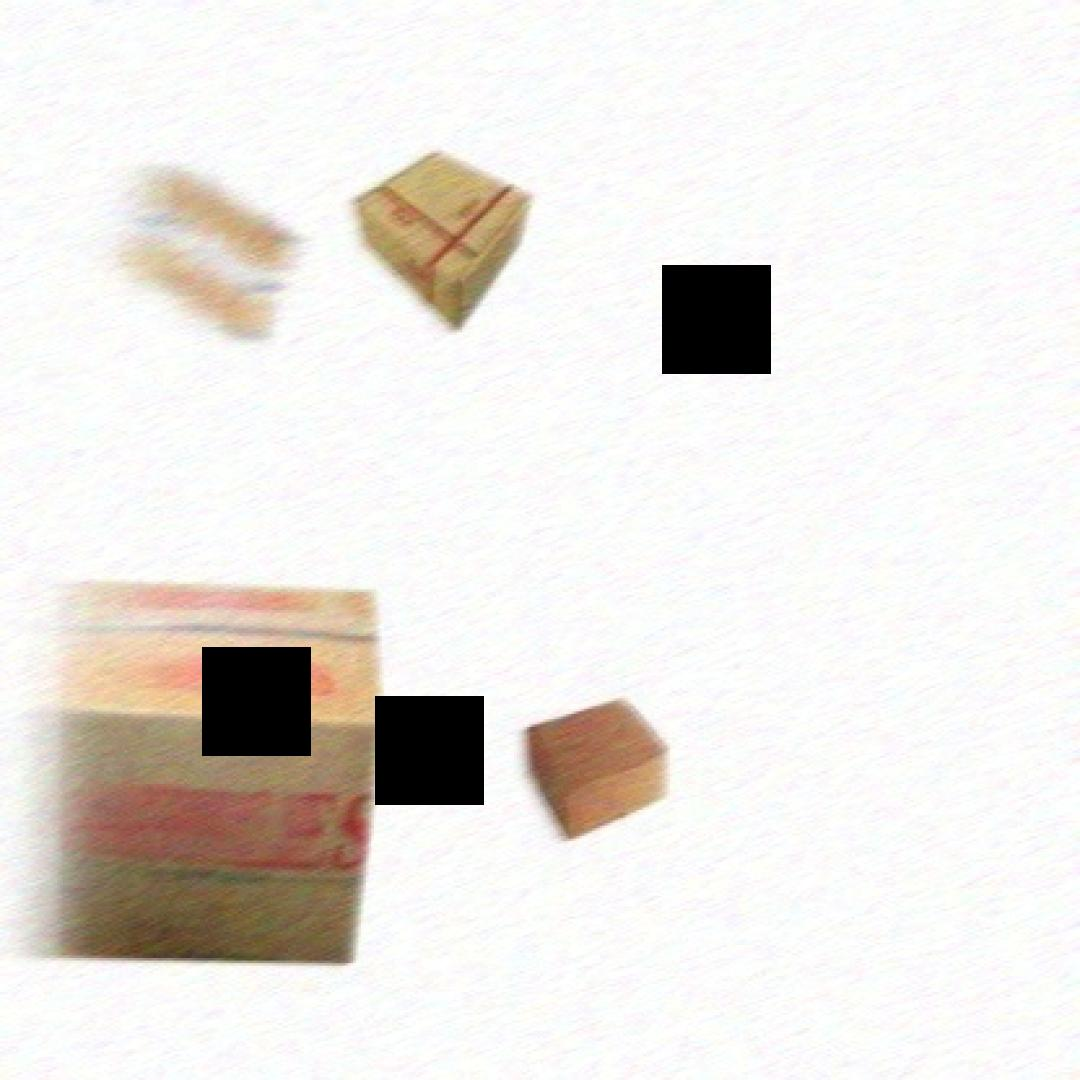package: (60, 584, 387, 963), (364, 150, 538, 328), (135, 161, 298, 340), (532, 696, 670, 838)
